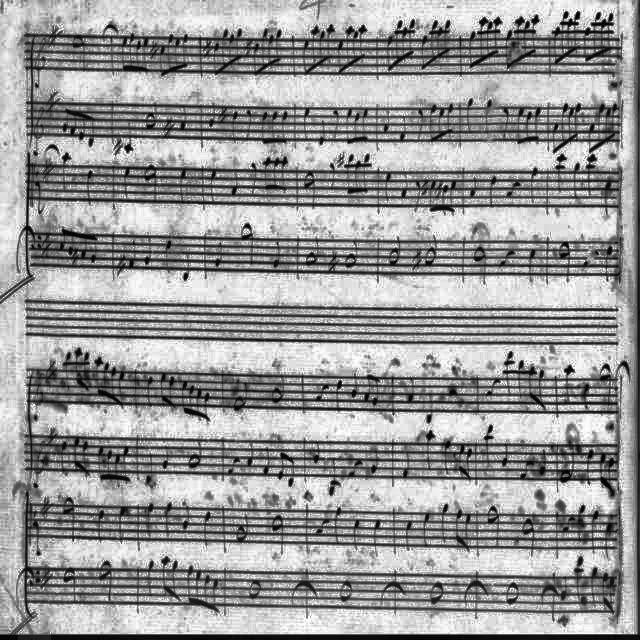Bass-clef: (15, 223, 38, 273), (15, 563, 35, 609), (41, 562, 55, 594)
Diez: (46, 91, 60, 117), (42, 230, 54, 260), (44, 360, 58, 384), (45, 426, 59, 449), (328, 250, 340, 274), (40, 496, 52, 520), (163, 116, 174, 140), (43, 159, 53, 185), (115, 254, 126, 276), (218, 104, 228, 128), (412, 248, 422, 272), (113, 136, 123, 156), (70, 247, 80, 265), (422, 178, 430, 198), (337, 151, 345, 169), (438, 181, 442, 201)
Eighth-note: (514, 16, 524, 62), (560, 11, 568, 57), (166, 33, 174, 77), (345, 26, 353, 70), (394, 20, 402, 64), (478, 18, 486, 62), (592, 12, 600, 56), (560, 102, 568, 146), (500, 249, 516, 271), (430, 21, 438, 64), (311, 25, 319, 67), (532, 14, 540, 54), (162, 554, 170, 594), (468, 31, 476, 69), (552, 27, 560, 65), (326, 24, 334, 61), (364, 152, 371, 194), (358, 24, 366, 60), (408, 18, 416, 54), (494, 18, 502, 54), (516, 107, 524, 143), (454, 508, 462, 544), (464, 514, 472, 550), (429, 102, 436, 142), (520, 460, 534, 480), (505, 180, 521, 197), (204, 574, 212, 608), (598, 102, 604, 146), (96, 446, 104, 479), (88, 116, 96, 148), (280, 112, 288, 144), (582, 250, 598, 266), (72, 438, 80, 470), (486, 379, 500, 397), (227, 457, 241, 475), (288, 457, 296, 488), (221, 49, 227, 90), (262, 29, 268, 70), (506, 30, 512, 70), (575, 10, 581, 50), (347, 154, 353, 194), (83, 350, 89, 390), (158, 372, 166, 402), (372, 375, 380, 405), (278, 451, 286, 481), (173, 558, 179, 598), (143, 37, 149, 75), (525, 20, 531, 58), (264, 156, 270, 194), (75, 347, 81, 385), (95, 356, 101, 394), (602, 571, 608, 609), (70, 108, 78, 136), (315, 384, 329, 400), (364, 374, 372, 402), (458, 444, 466, 472), (316, 518, 330, 534), (562, 516, 576, 532), (110, 364, 116, 401), (121, 36, 127, 72), (175, 36, 181, 72), (451, 178, 457, 214), (117, 370, 123, 406), (83, 440, 89, 476), (196, 568, 202, 604), (584, 27, 590, 62), (182, 33, 188, 67), (269, 33, 275, 67), (277, 28, 283, 62), (303, 41, 309, 75), (402, 26, 408, 60), (445, 19, 451, 53), (262, 110, 268, 144), (346, 109, 352, 143), (273, 156, 279, 190), (281, 156, 287, 190), (355, 160, 361, 194), (350, 459, 362, 476), (78, 112, 85, 140), (135, 40, 141, 72), (160, 46, 166, 78), (236, 28, 242, 60), (337, 40, 343, 72), (272, 110, 278, 142), (362, 108, 368, 140), (535, 106, 541, 138), (430, 180, 436, 212), (608, 458, 614, 490), (599, 452, 605, 484), (123, 448, 129, 480), (439, 108, 445, 138), (553, 123, 559, 153), (204, 391, 210, 421), (107, 449, 113, 479), (353, 112, 359, 140), (525, 112, 531, 140), (588, 124, 594, 152), (67, 228, 73, 256), (91, 235, 97, 262), (130, 32, 134, 72), (488, 20, 492, 60), (610, 574, 614, 614), (188, 564, 192, 604), (568, 19, 572, 57), (608, 14, 612, 51), (320, 30, 324, 66), (388, 36, 392, 72), (422, 34, 426, 70), (602, 18, 606, 54), (63, 108, 69, 132), (570, 108, 574, 144), (576, 100, 580, 136), (612, 100, 616, 136), (81, 234, 87, 258), (60, 226, 66, 250), (104, 362, 108, 398), (214, 42, 218, 76), (230, 33, 234, 67), (254, 42, 258, 76), (606, 107, 610, 141), (214, 578, 218, 612), (354, 31, 358, 64), (438, 26, 442, 58), (182, 380, 186, 412), (190, 384, 194, 416), (468, 448, 472, 479), (448, 103, 452, 133), (170, 376, 174, 406), (444, 186, 448, 214), (198, 388, 202, 416), (116, 454, 120, 480)
Full-note: (427, 580, 447, 608), (337, 579, 355, 605), (504, 580, 520, 606), (247, 578, 263, 602)
Half-note: (270, 512, 286, 556), (520, 516, 536, 558), (230, 380, 250, 412), (62, 564, 78, 604), (240, 222, 254, 266), (62, 498, 76, 542), (486, 503, 500, 547), (472, 247, 488, 285), (557, 242, 571, 284), (72, 36, 88, 72), (143, 162, 157, 202), (303, 170, 317, 210), (559, 453, 577, 483), (234, 514, 250, 546), (304, 235, 320, 265), (270, 375, 286, 405), (388, 234, 402, 266), (187, 442, 203, 470), (345, 239, 359, 269), (426, 234, 438, 266), (146, 102, 158, 130), (414, 180, 422, 212)
Quarter-note: (95, 559, 114, 603), (584, 154, 598, 196), (502, 348, 514, 396), (565, 362, 575, 402), (484, 424, 494, 464), (591, 507, 599, 557), (147, 498, 157, 538), (526, 250, 538, 282), (483, 97, 493, 135), (556, 154, 566, 192), (97, 509, 107, 547), (329, 459, 339, 496), (178, 168, 188, 204), (576, 556, 584, 600), (590, 565, 598, 609), (61, 151, 70, 189), (86, 168, 95, 206), (466, 98, 476, 132), (142, 238, 154, 266), (426, 429, 434, 471), (336, 505, 344, 547), (516, 358, 524, 399), (145, 374, 155, 406), (425, 394, 435, 426), (578, 504, 586, 544), (440, 502, 448, 542), (146, 558, 154, 598), (125, 120, 134, 154), (530, 166, 538, 204), (538, 368, 546, 406), (374, 519, 382, 557), (272, 239, 282, 269), (144, 453, 154, 483), (586, 449, 594, 486), (423, 509, 431, 546), (204, 509, 212, 546), (489, 174, 497, 210), (572, 162, 580, 198), (604, 180, 612, 216), (528, 366, 536, 402), (444, 438, 452, 474), (604, 520, 612, 556), (166, 502, 174, 538), (181, 254, 191, 282), (466, 177, 478, 200), (210, 169, 218, 203), (166, 239, 174, 273), (406, 517, 414, 551), (402, 450, 411, 480), (560, 576, 570, 602), (124, 167, 132, 199), (336, 380, 344, 412), (352, 518, 360, 550), (230, 171, 240, 195), (128, 239, 136, 269), (60, 441, 68, 471), (262, 445, 270, 475), (540, 450, 548, 480), (119, 506, 125, 546), (65, 351, 71, 389), (318, 118, 326, 146), (384, 172, 392, 200), (582, 382, 590, 410), (246, 439, 254, 467), (184, 503, 192, 531), (180, 104, 188, 130), (216, 241, 224, 267), (350, 372, 358, 398), (406, 378, 414, 404), (162, 445, 170, 471), (232, 110, 238, 144), (208, 102, 216, 126), (304, 108, 310, 140), (400, 172, 408, 196), (314, 440, 322, 464), (371, 450, 379, 474), (384, 110, 391, 134), (399, 116, 406, 140), (502, 442, 508, 468)
Quarter-rest: (598, 374, 612, 406), (32, 520, 42, 556), (606, 244, 614, 284), (416, 108, 424, 142), (35, 180, 43, 214), (502, 106, 510, 138), (332, 109, 340, 139), (250, 160, 256, 196), (329, 159, 336, 189), (246, 108, 252, 140)
Treble-clef: (32, 106, 44, 156), (34, 38, 46, 86), (34, 373, 44, 421), (34, 440, 44, 488)
